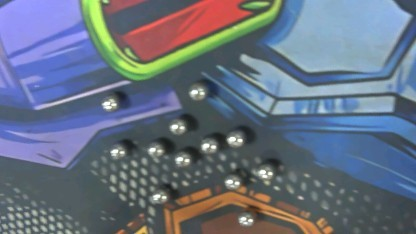ironball: (98, 91, 125, 114), (182, 81, 210, 102), (222, 126, 248, 148), (197, 135, 221, 157), (105, 141, 129, 160), (236, 209, 261, 227), (147, 138, 165, 162), (254, 161, 276, 180), (223, 169, 239, 194), (172, 150, 193, 168), (150, 190, 172, 204), (168, 117, 185, 132)
